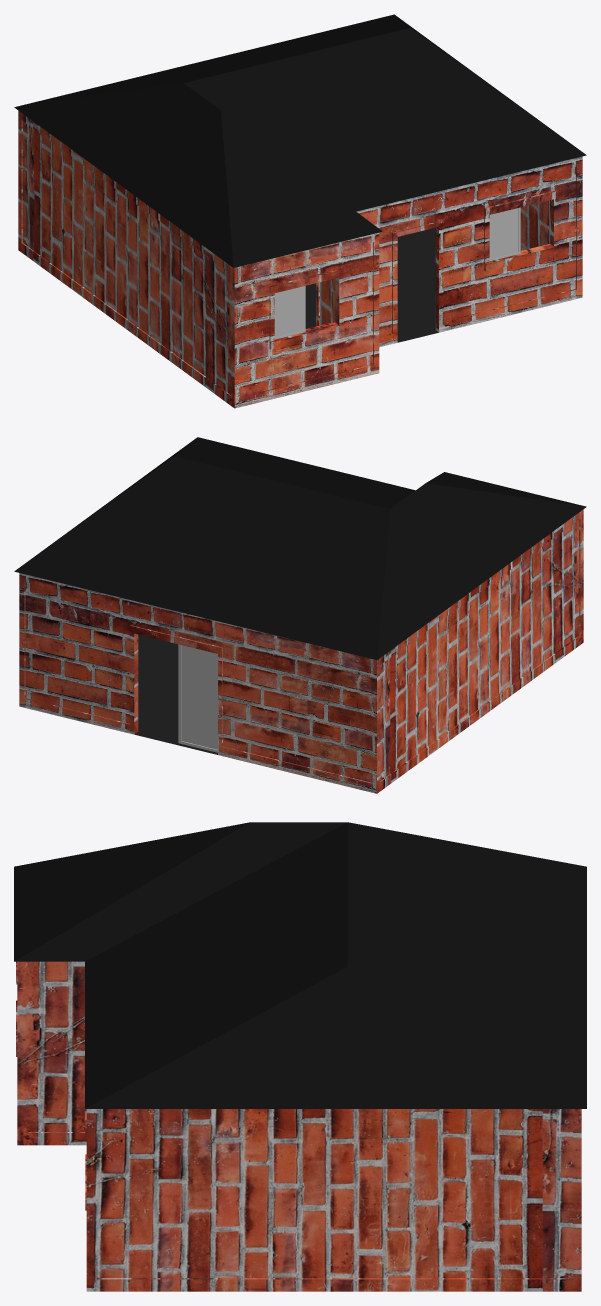
File: house2.obj
3 views of the same model, one above another, from view 1: azimuth 30°, elevation 25°; view 2: azimuth 150°, elevation 25°; view 3: azimuth 270°, elevation 25° (orthographic). The views are drawn at different scales.
Parts seen in each view (by area): view 1: Vert_Vert_Roof, Vert_Vert_Walls, Vert_Vert_Floor, Vert_Vert_Glass; view 2: Vert_Vert_Roof, Vert_Vert_Walls, Vert_Vert_Floor, Vert_Vert_Glass, Vert_Vert_Sliding_Glass_Door; view 3: Vert_Vert_Roof, Vert_Vert_Walls.
Part boxes in pixels (x1,y1,x2,y2): Vert_Vert_Roof: [14, 14, 586, 267]; Vert_Vert_Walls: [18, 111, 582, 408]; Vert_Vert_Floor: [305, 227, 438, 342]; Vert_Vert_Glass: [275, 208, 518, 337]; Vert_Vert_Roof: [14, 437, 586, 659]; Vert_Vert_Walls: [19, 509, 583, 793]; Vert_Vert_Floor: [135, 634, 217, 754]; Vert_Vert_Glass: [181, 645, 217, 749]; Vert_Vert_Sliding_Glass_Door: [178, 644, 217, 752]; Vert_Vert_Roof: [14, 822, 586, 1108]; Vert_Vert_Walls: [16, 961, 581, 1291].
Bounding box in the file's own units: 16.55 × 8.9 × 16.55.
